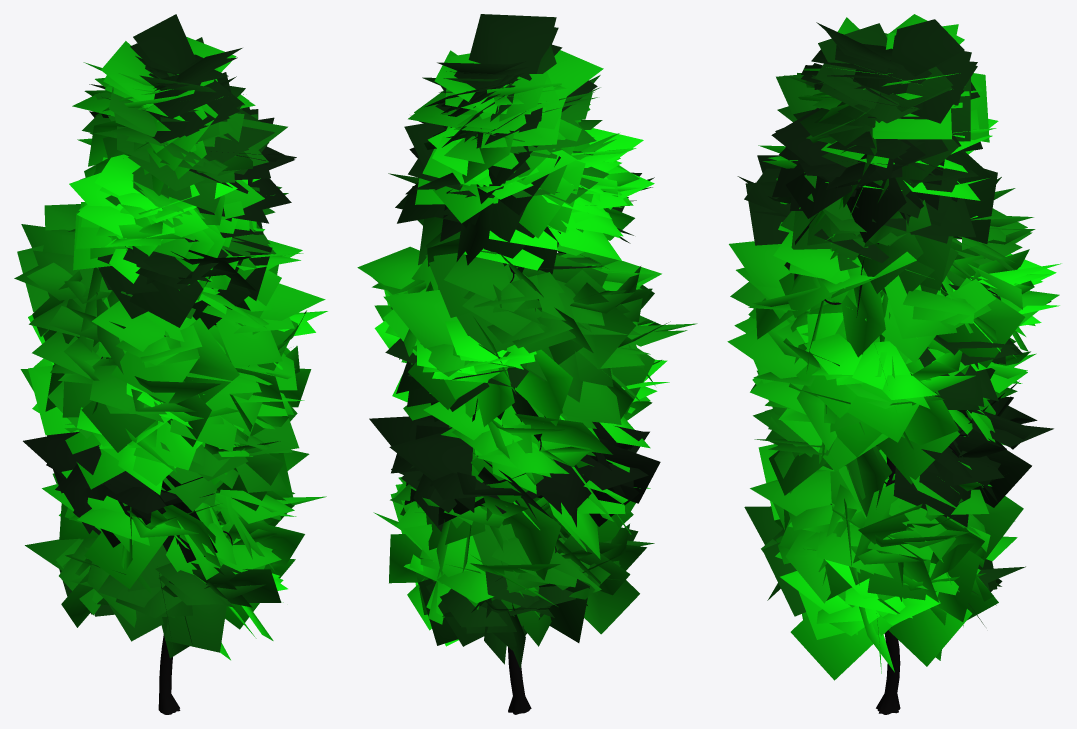
Rendered from SilverLime_6.fbx.
The picture shows the model from 3 angles, left to right: view 1: azimuth 30°, elevation 25°; view 2: azimuth 150°, elevation 25°; view 3: azimuth 270°, elevation 25°; orthographic projection. The views are drawn at different scales.
Visible parts, largest first — view 1: SilverLime_6; view 2: SilverLime_6; view 3: SilverLime_6.
Part boxes in pixels (box(x1,y1,x2,y2)): SilverLime_6: box(14, 14, 327, 714); SilverLime_6: box(357, 14, 697, 714); SilverLime_6: box(727, 14, 1061, 714).
Bounding box in the file's own units: 363 × 833 × 369.
